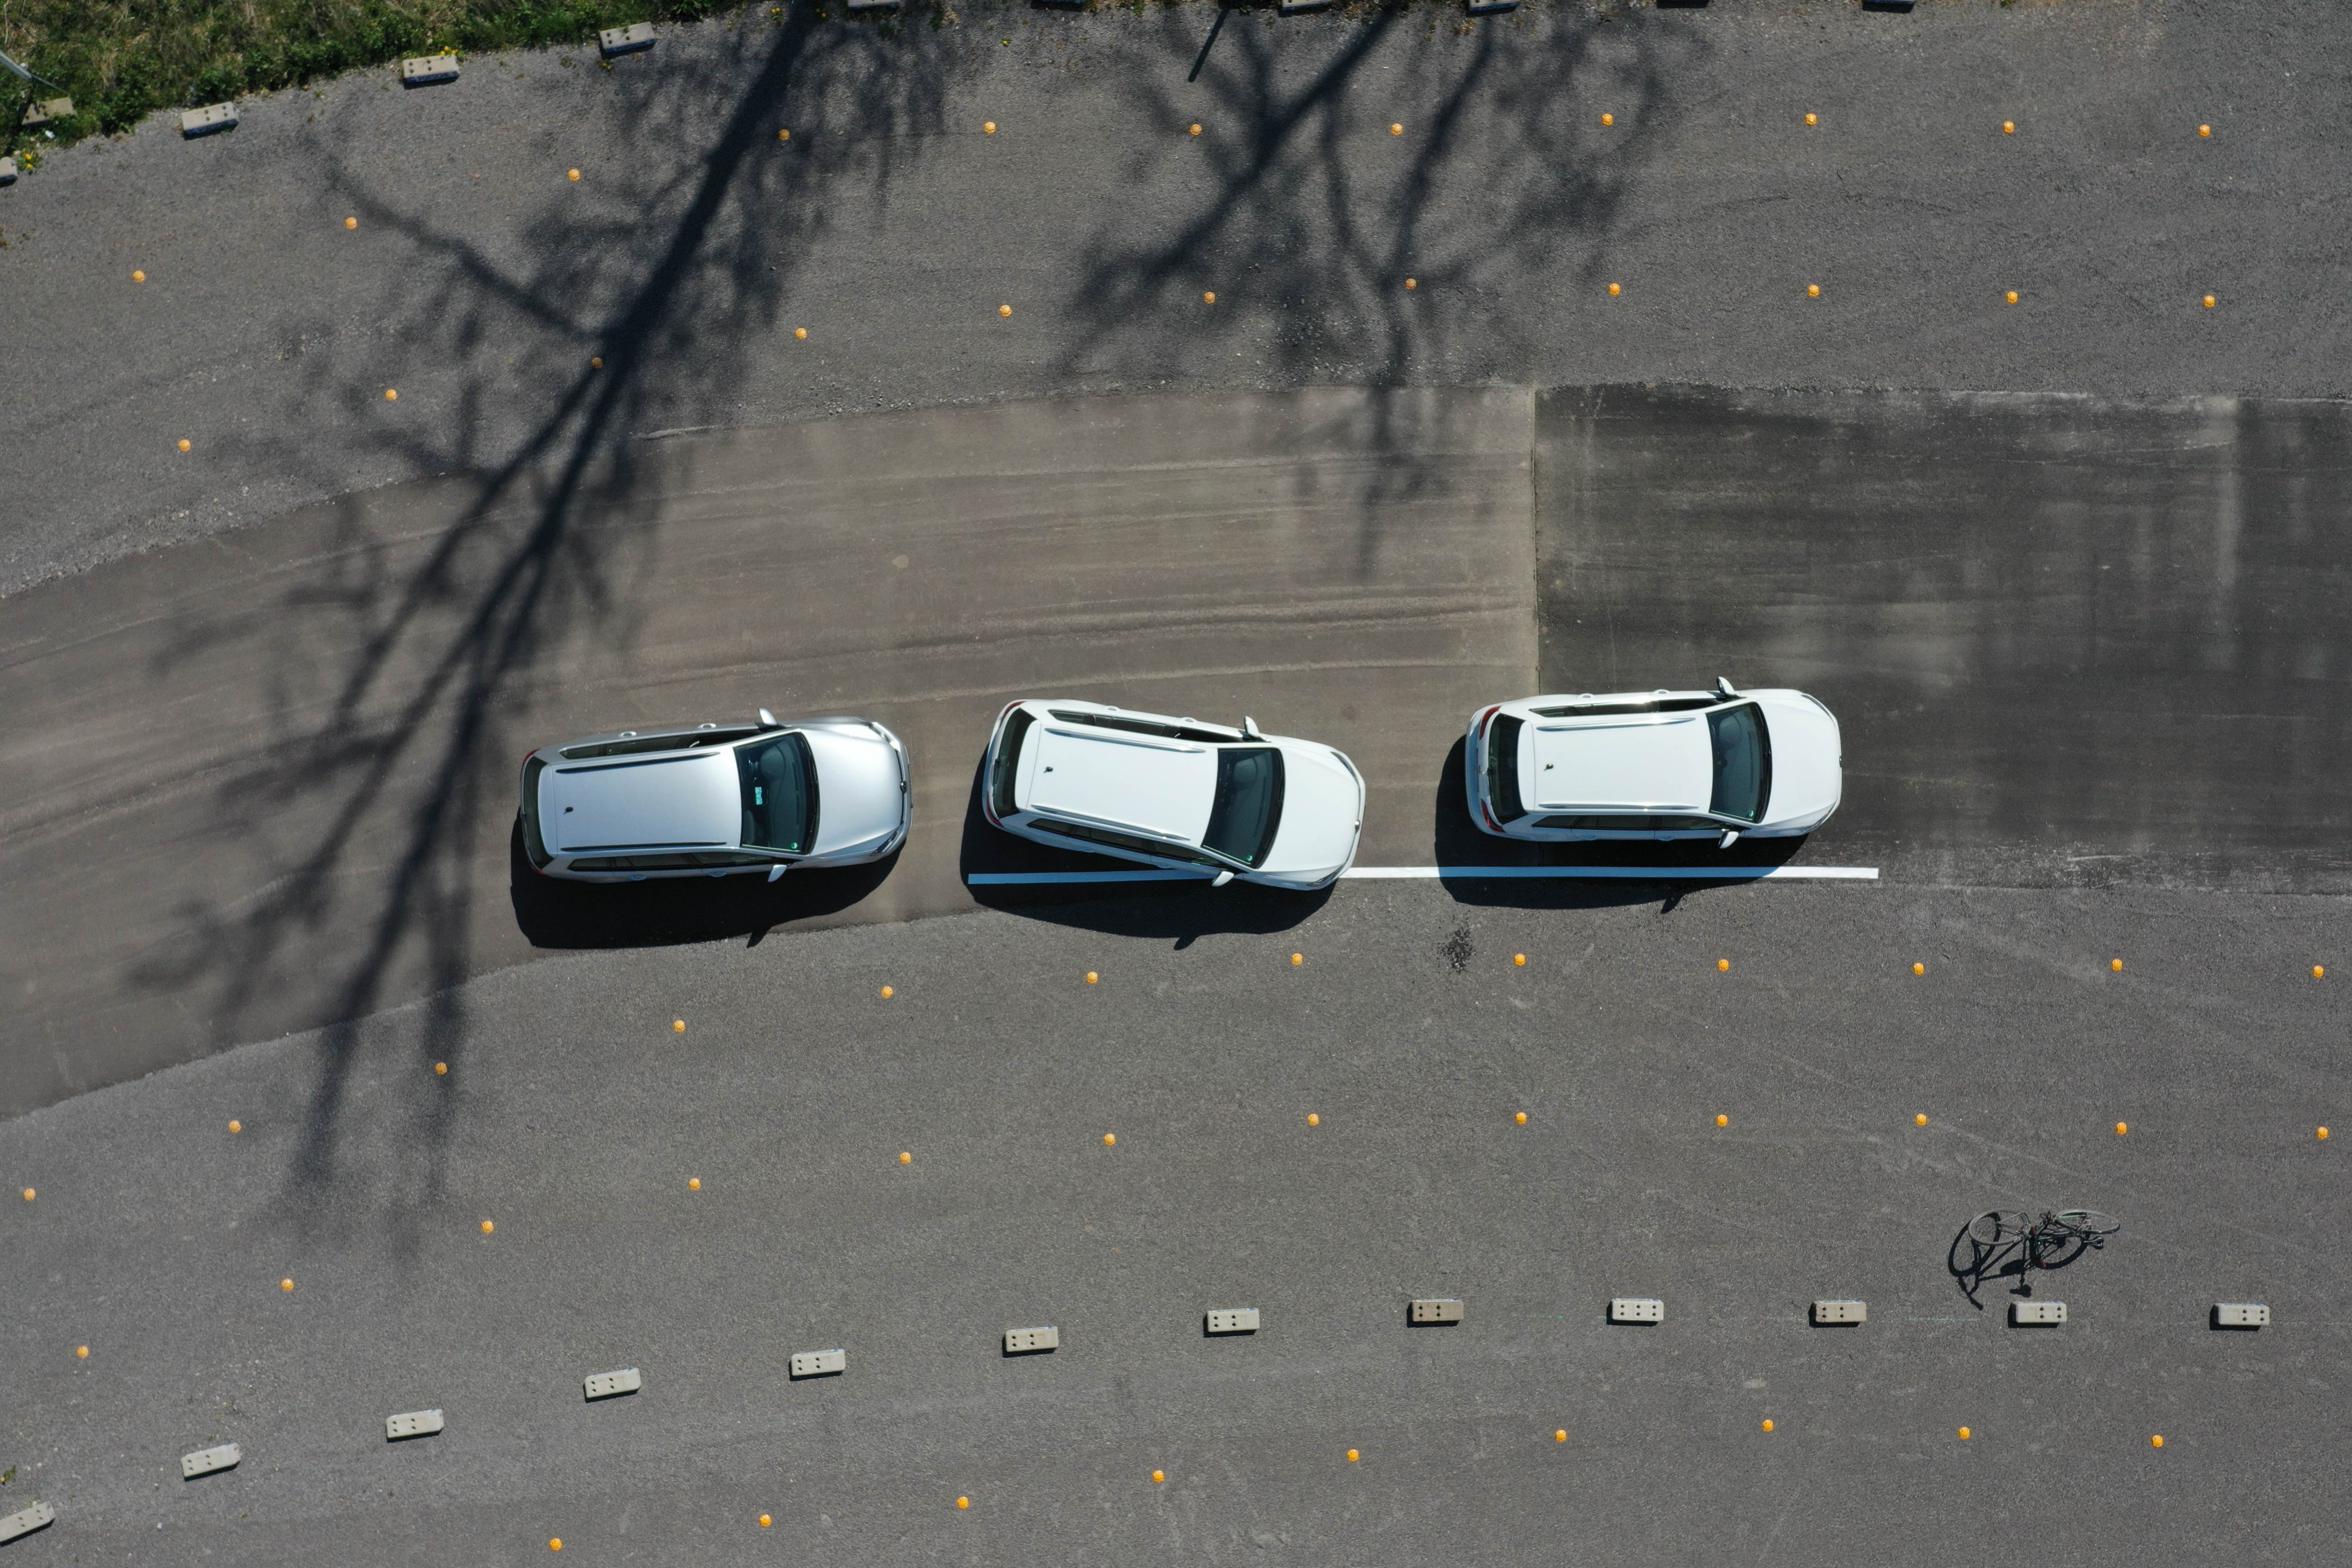Car: (961, 689, 1386, 908), (502, 695, 931, 906), (1445, 675, 1855, 861)
LaneMark: (1358, 864, 1885, 889), (964, 868, 1150, 887)
